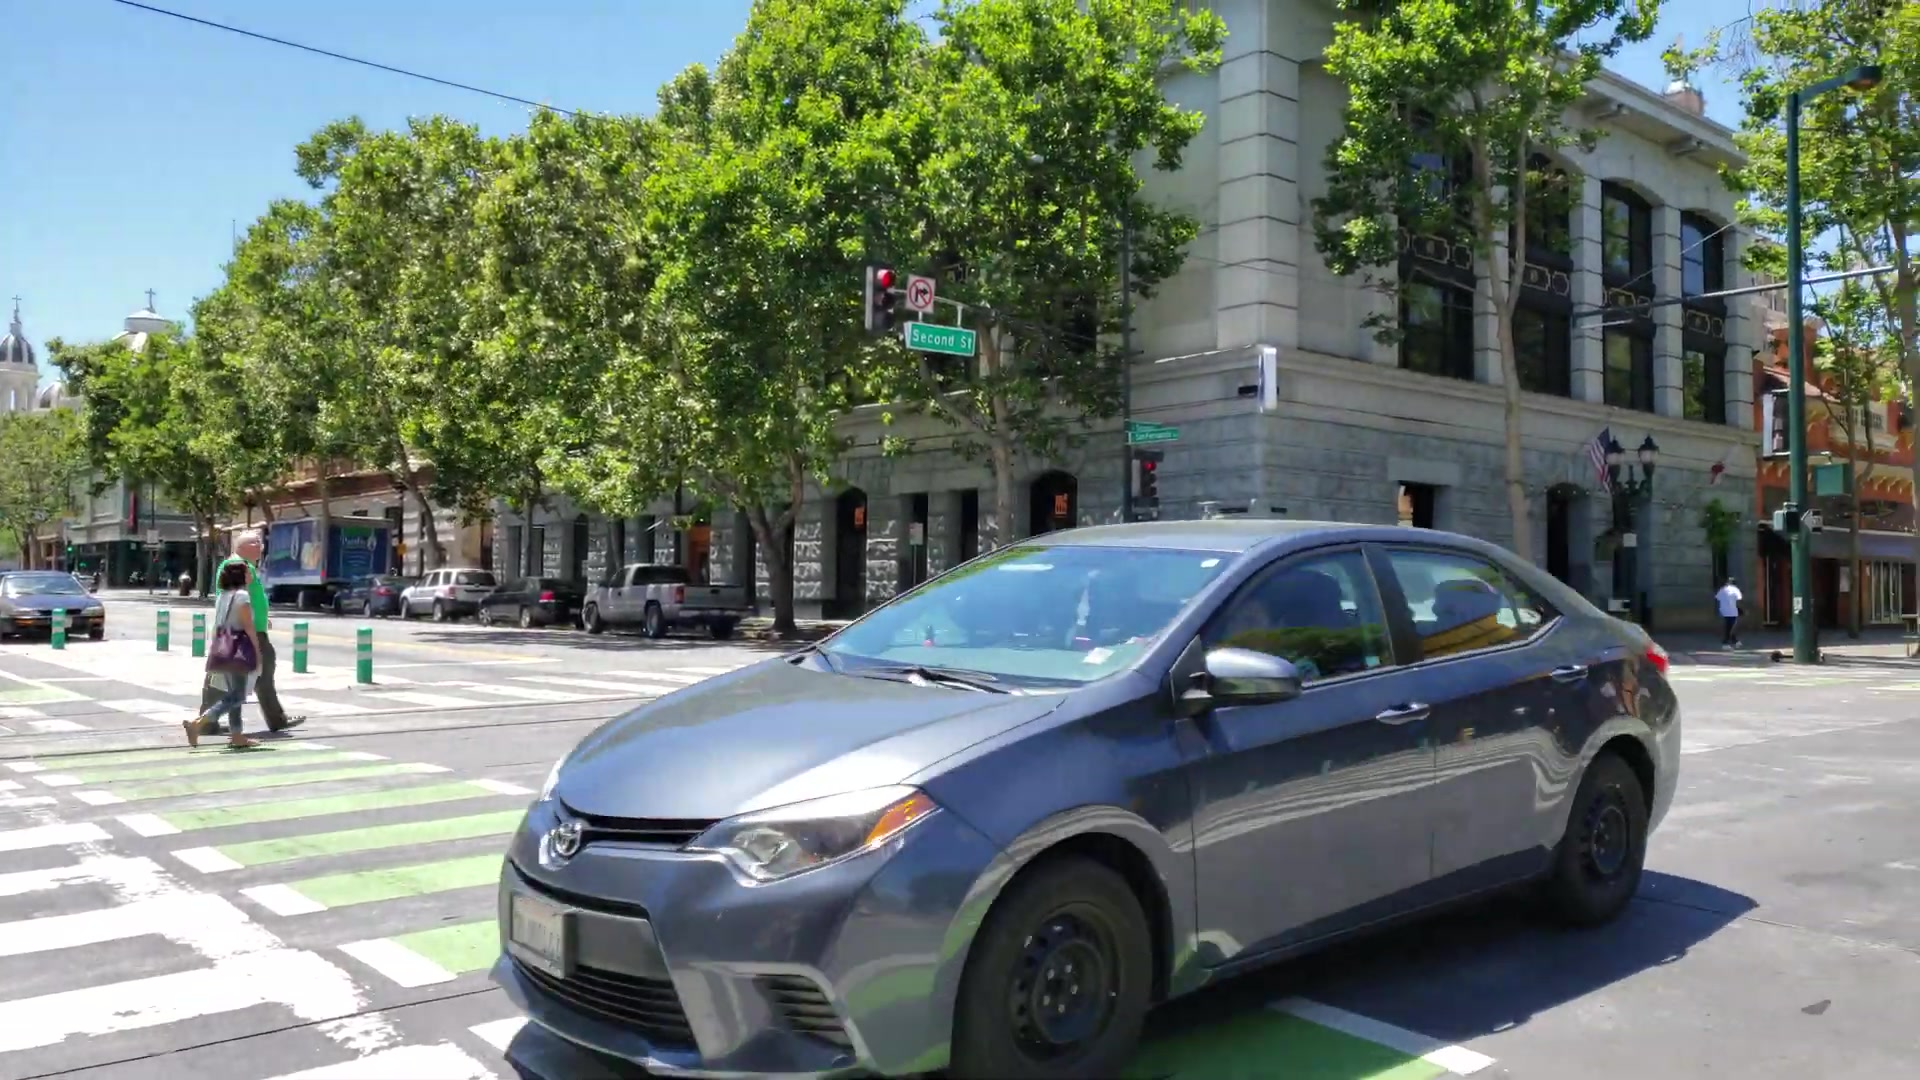vehicle: (487, 516, 1679, 1080)
